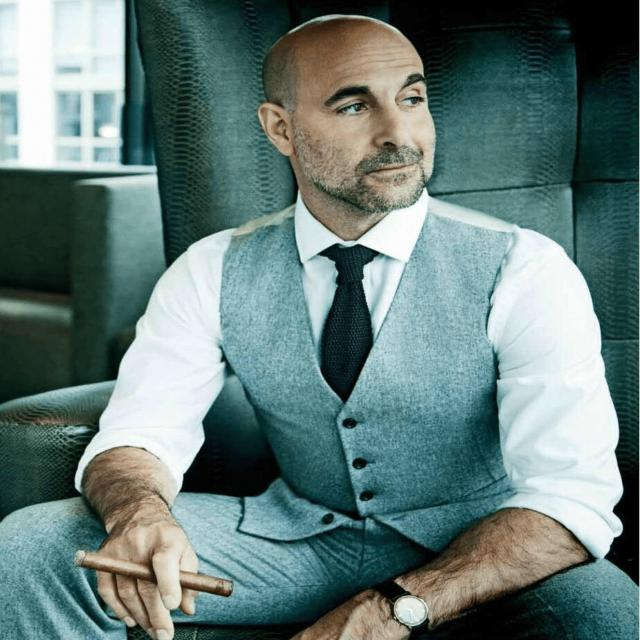no_helmet: (236, 9, 452, 112)
